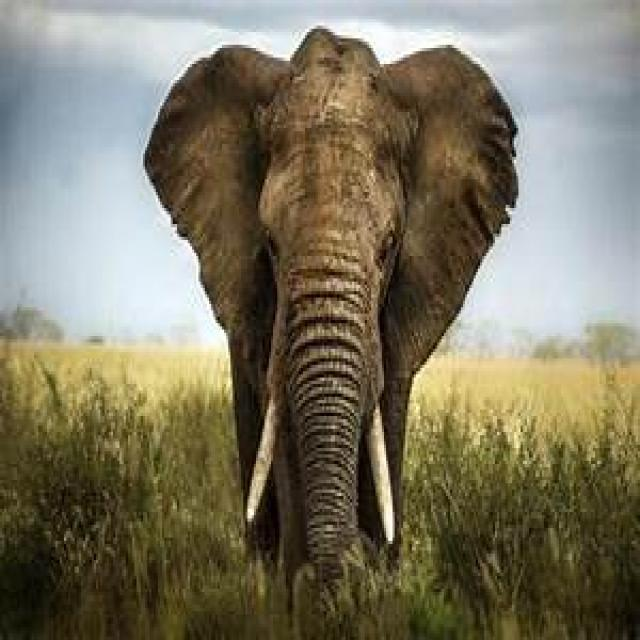elephant: (143, 29, 521, 611)
